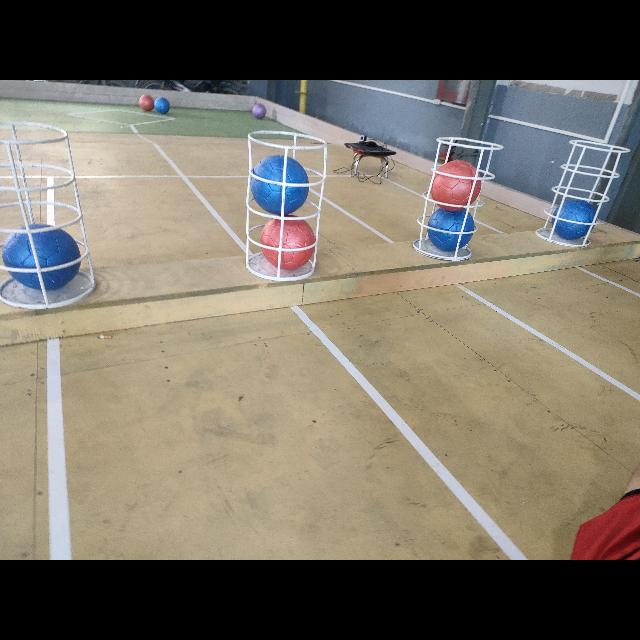B: (1, 223, 80, 291), (250, 153, 308, 215), (428, 207, 476, 251), (552, 198, 596, 240), (154, 98, 172, 112)
R: (260, 214, 316, 270), (432, 158, 482, 210), (138, 94, 154, 112)
